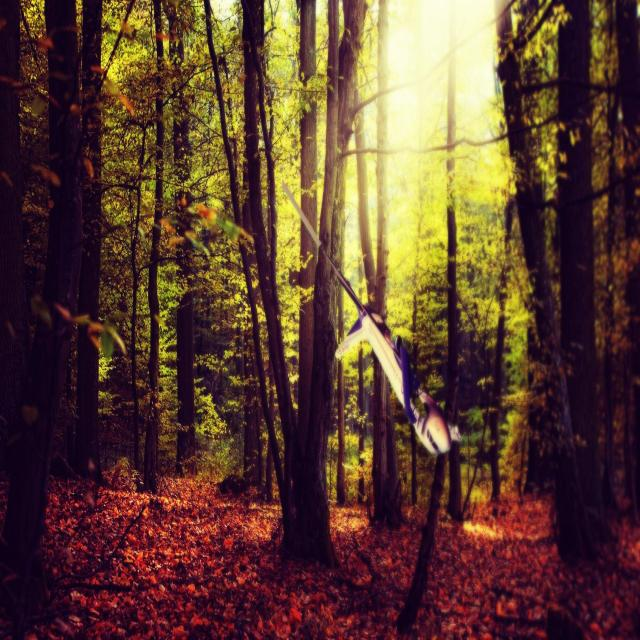airplane: (281, 180, 461, 457)
